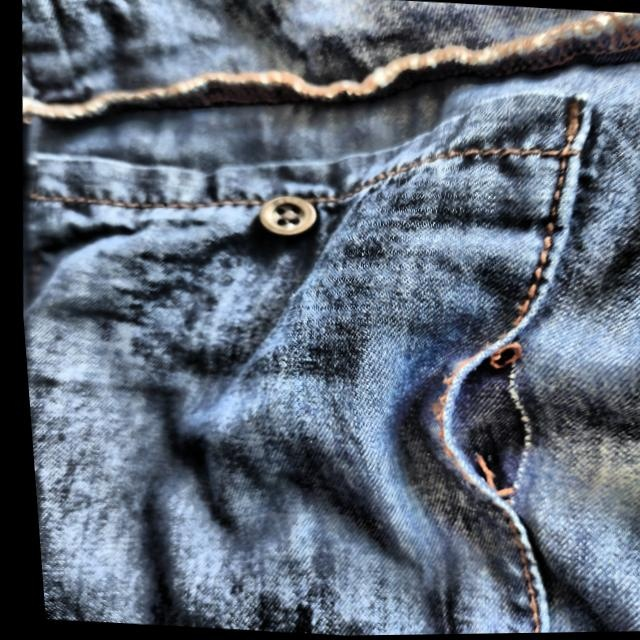seam: (400, 325, 572, 514)
